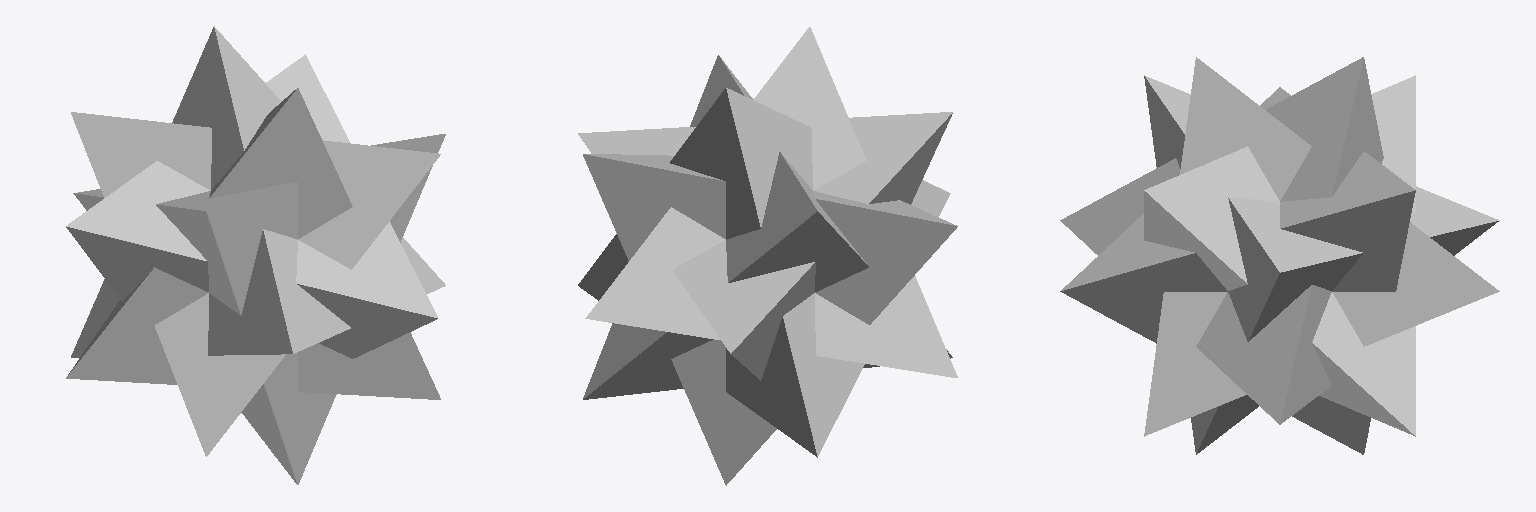
The model's file is 5tetra.obj.
The picture shows the model from 3 angles: view 1: azimuth 30°, elevation 25°; view 2: azimuth 150°, elevation 25°; view 3: azimuth 270°, elevation 25°; orthographic projection.
Parts seen in each view (by area): view 1: 5tetra; view 2: 5tetra; view 3: 5tetra.
Boxes of the visible parts, box(x1,y1,x2,y2) form: 5tetra: box(66, 26, 445, 484); 5tetra: box(578, 27, 957, 485); 5tetra: box(1060, 57, 1499, 454).
Size of the model in its own units: 3.24 by 3.24 by 3.24.